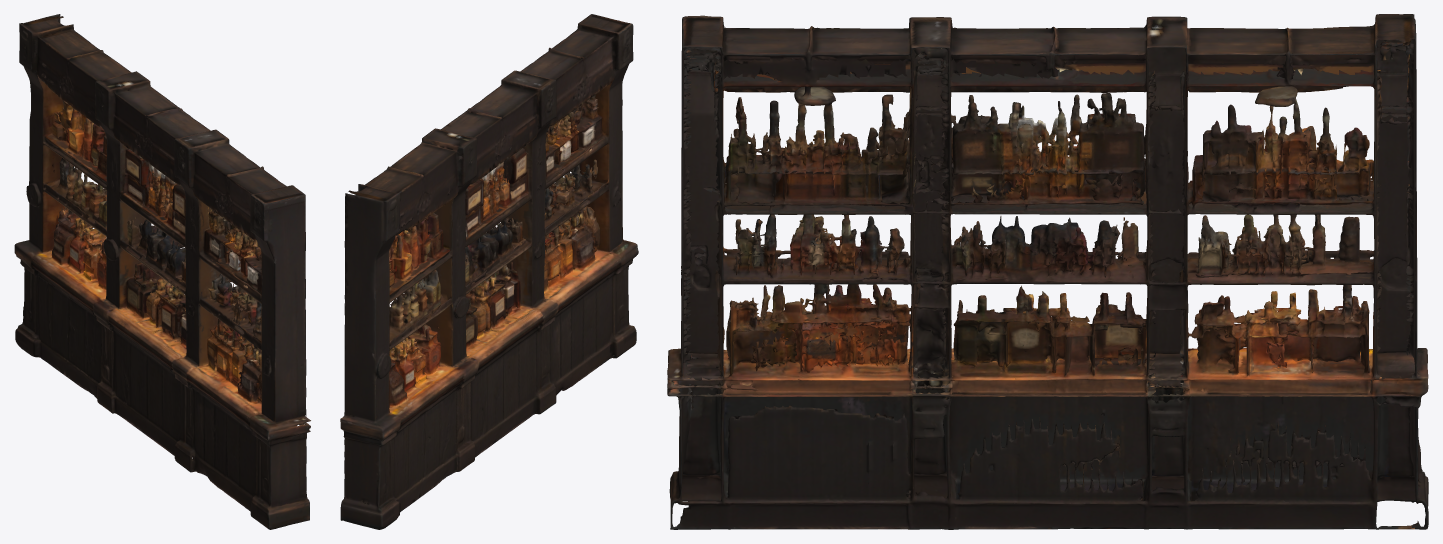
File: A_full_width_vintage__0721212949_texture.fbx
The picture shows the model from 3 angles, left to right: view 1: azimuth 30°, elevation 25°; view 2: azimuth 150°, elevation 25°; view 3: azimuth 270°, elevation 25°; orthographic projection. The views are drawn at different scales.
Parts seen in each view (by area): view 1: Mesh_0; view 2: Mesh_0; view 3: Mesh_0.
Boxes of the visible parts, left/top/right/bottom form: Mesh_0: left=14, top=14, right=310, bottom=529; Mesh_0: left=340, top=14, right=638, bottom=529; Mesh_0: left=667, top=14, right=1428, bottom=529.
Size of the model in its own units: 20.86 by 141 by 200.
1 material, 1 textured.
